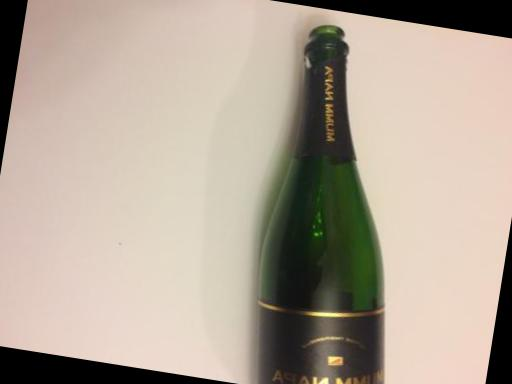glass: (169, 0, 484, 384)
